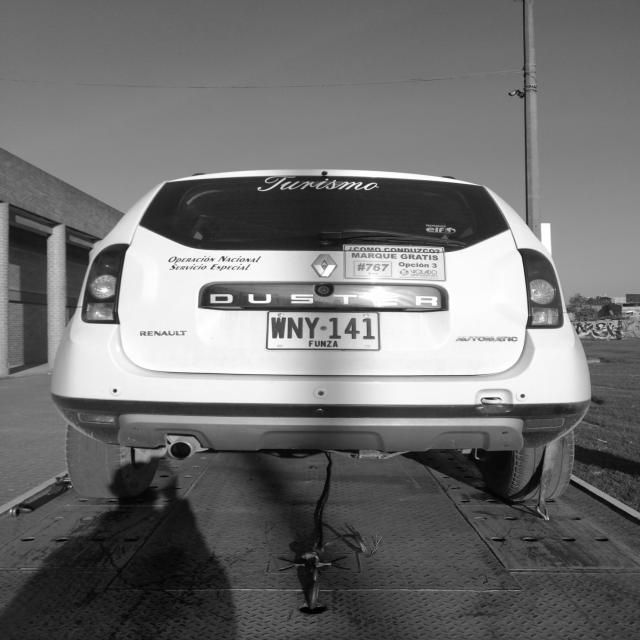plate: (262, 304, 390, 356)
